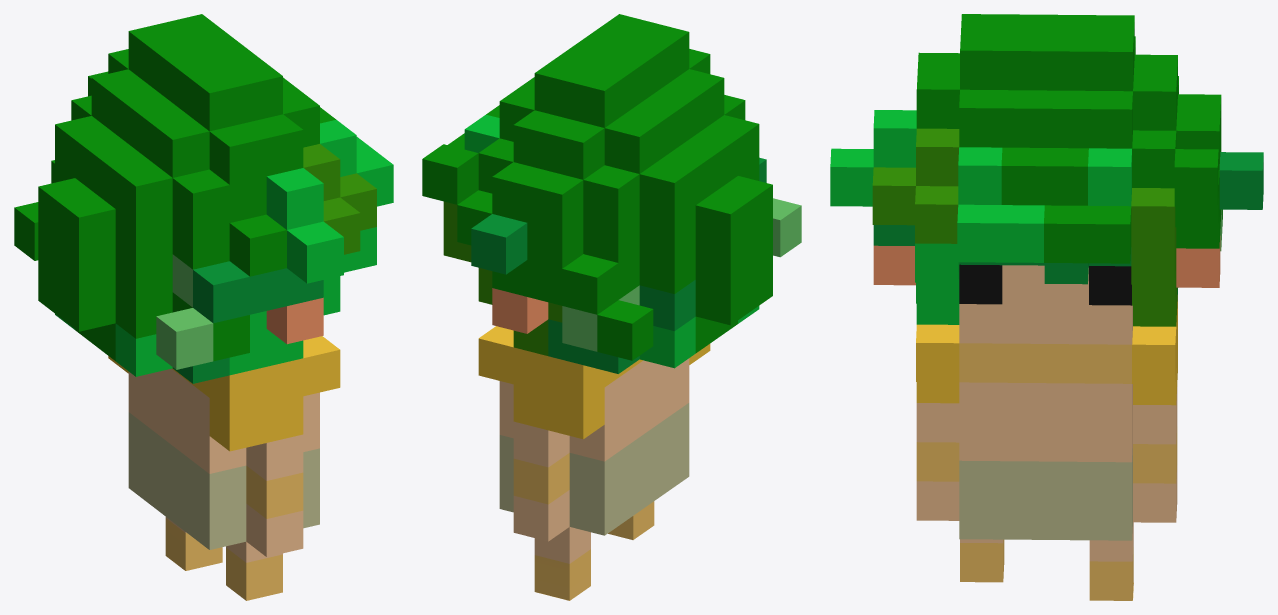
The model's file is playerone_walk.FBX.
3 views of the same model, side by side, from view 1: azimuth 30°, elevation 25°; view 2: azimuth 150°, elevation 25°; view 3: azimuth 270°, elevation 25° (orthographic). The views are drawn at different scales.
Parts seen in each view (by area): view 1: playerone; view 2: playerone; view 3: playerone.
Part boxes in pixels (x1,y1,x2,y2): playerone: [14, 14, 393, 600]; playerone: [422, 14, 801, 600]; playerone: [830, 14, 1263, 600].
Bounding box in the file's own units: 6.15 × 10.69 × 7.65.
1 material, 1 textured.
